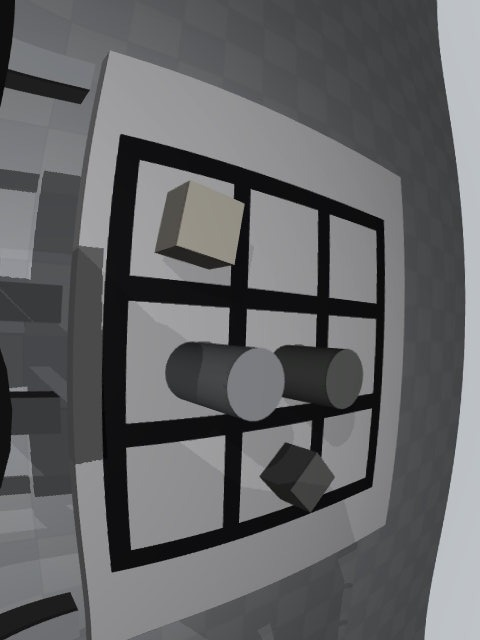can: (165, 341, 285, 421)
cube: (260, 442, 335, 512)
cylinder: (274, 345, 363, 409)
foam: (155, 180, 245, 270)
